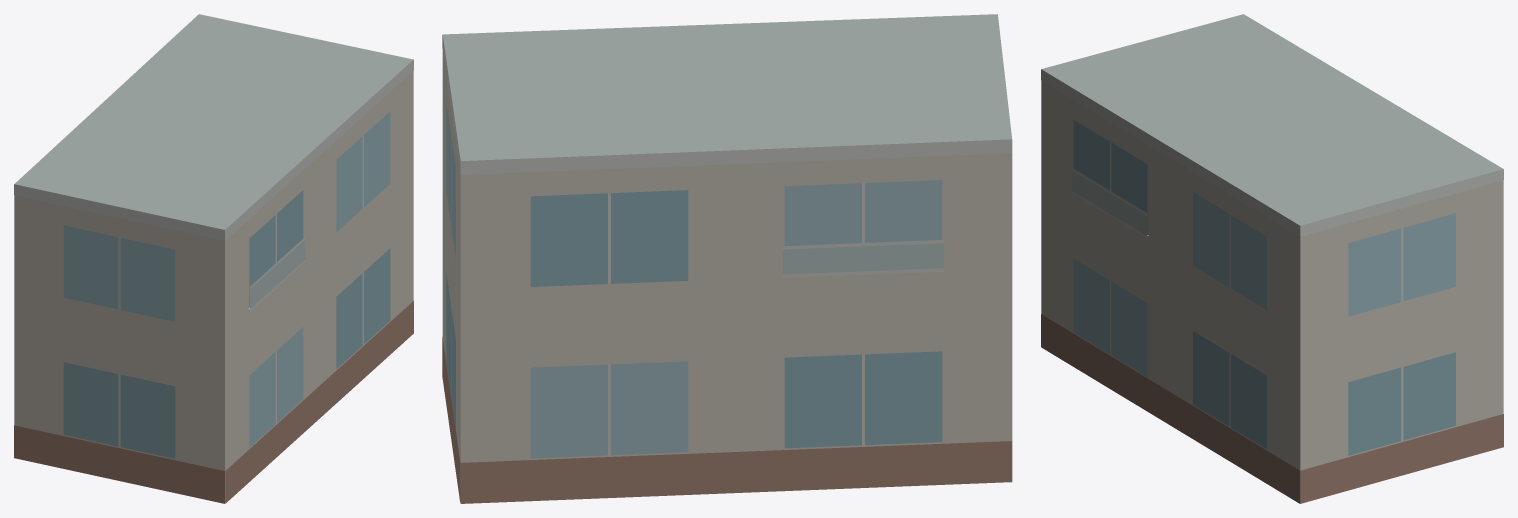
Rendered from survey-upis-32763300.glb.
3 renders of one model, left to right at view 1: azimuth 30°, elevation 25°; view 2: azimuth 150°, elevation 25°; view 3: azimuth 270°, elevation 25°, orthographic. The views are drawn at different scales.
Visible parts, largest first — view 1: survey-upis-32763300.tmp; view 2: survey-upis-32763300.tmp; view 3: survey-upis-32763300.tmp.
Part boxes in pixels (bbox=[...]): survey-upis-32763300.tmp: bbox=[14, 14, 413, 503]; survey-upis-32763300.tmp: bbox=[442, 14, 1012, 503]; survey-upis-32763300.tmp: bbox=[1041, 14, 1503, 503].
Size of the model in its own units: 9.97 by 6.1 by 9.2.
